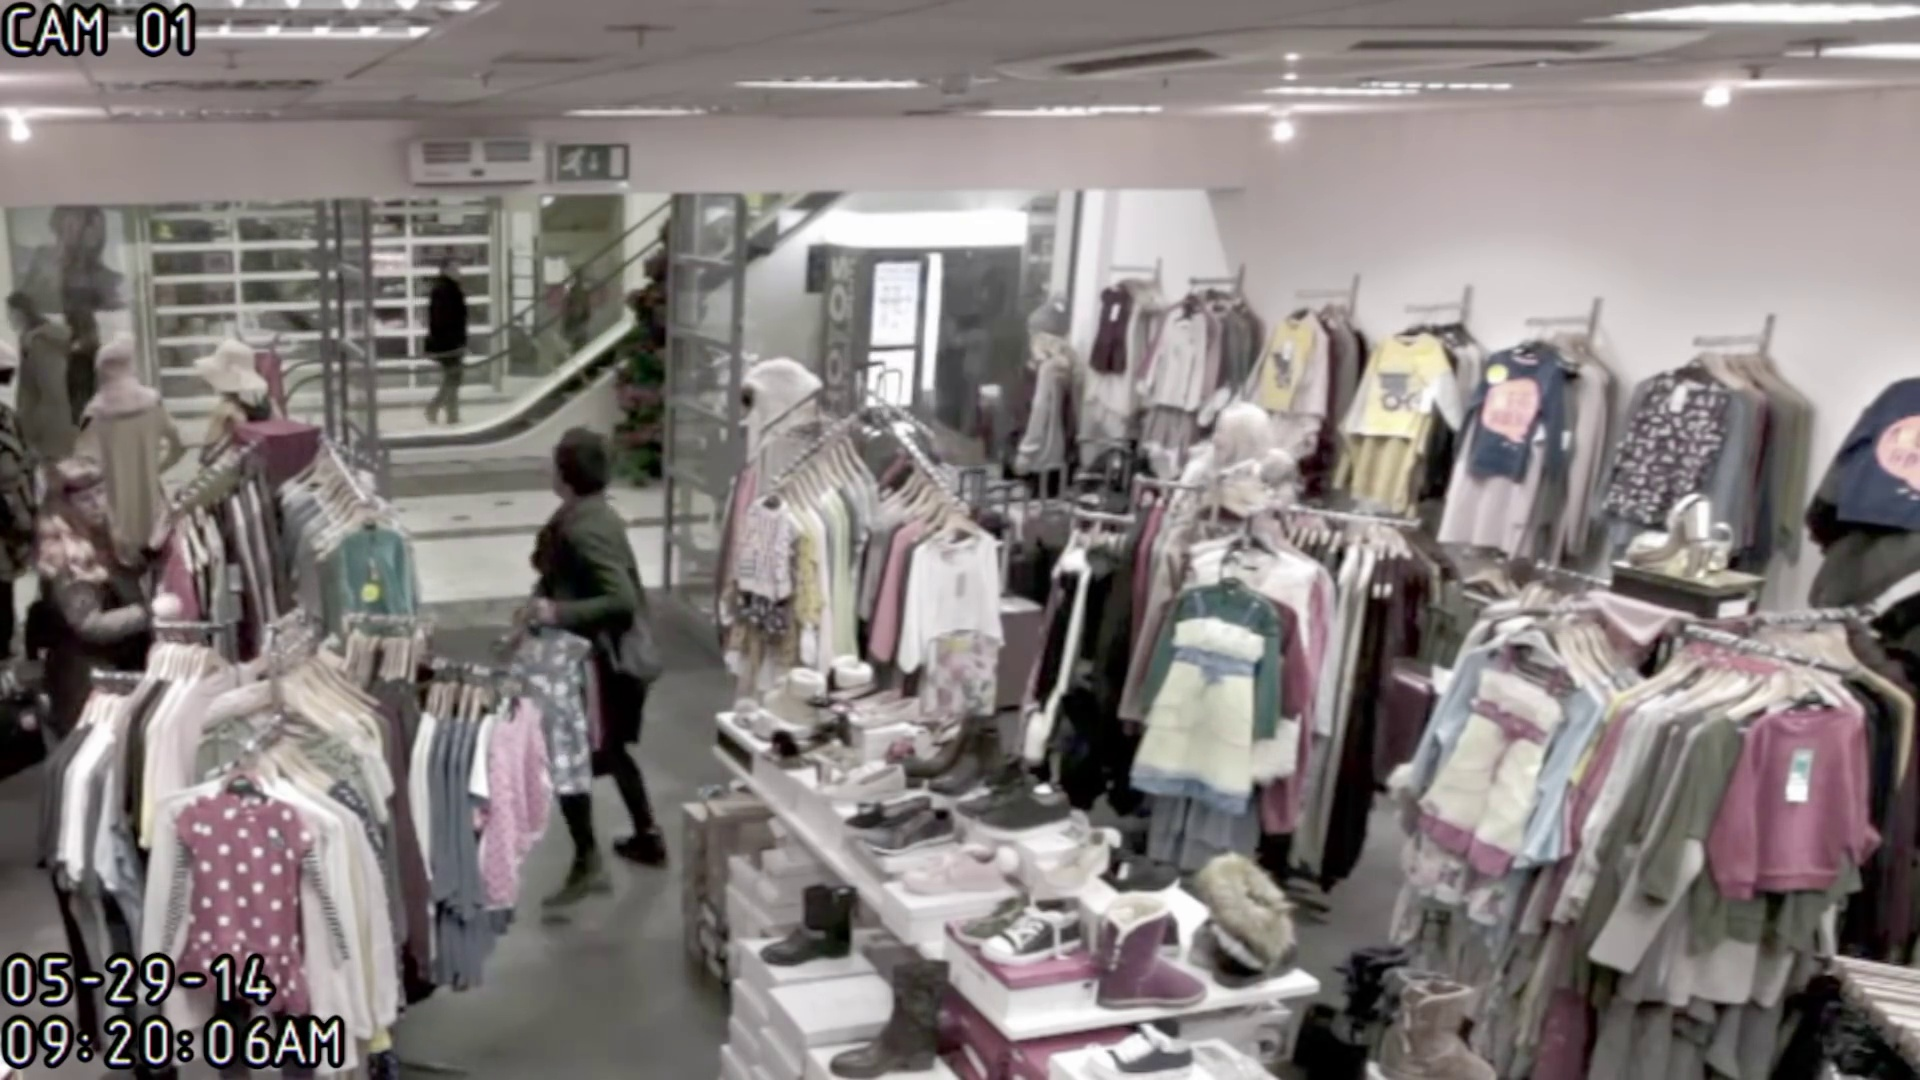face: (63, 483, 116, 540)
